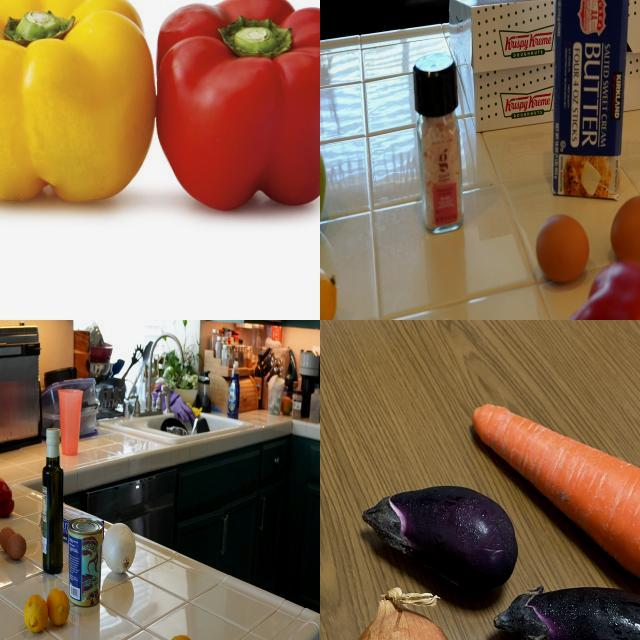bell_pepper: (161, 1, 321, 219), (1, 1, 161, 209), (1, 476, 15, 520)
carrot: (472, 407, 640, 585)
egg: (535, 211, 593, 289), (613, 194, 640, 263), (9, 533, 28, 564), (1, 525, 14, 552)
eggplant: (358, 484, 525, 600), (496, 580, 640, 640)
onion: (344, 598, 463, 640), (106, 521, 137, 577)
